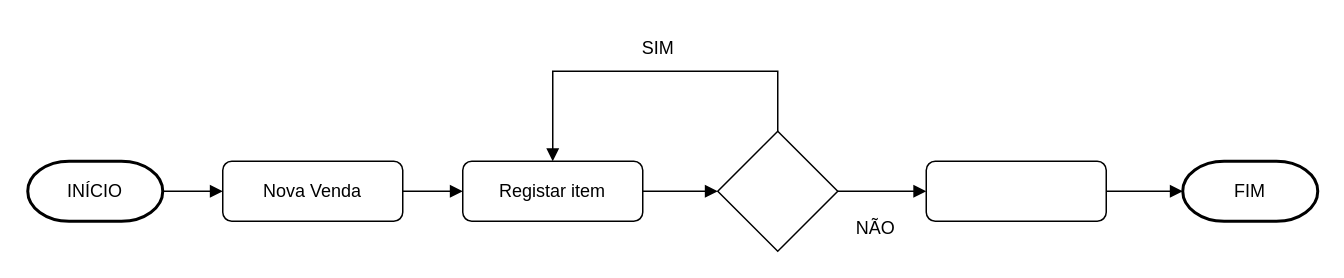
Image size: 1344x278. Some labels were removed from this diagram. Each missing label, with the box of its shape:
Finalizar venda: (925, 160, 1106, 221)
Incluir outro item?: (716, 130, 838, 251)
